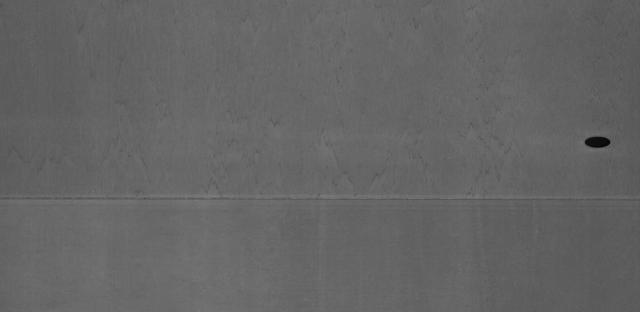punching_hole: (580, 131, 614, 151)
silk_spot: (16, 7, 527, 187)
welding_line: (2, 190, 638, 210)
